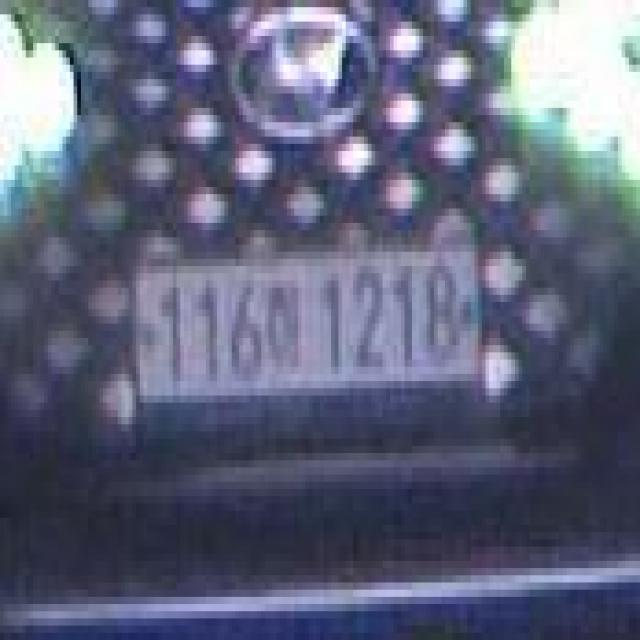illegal_plate: (134, 242, 488, 413)
